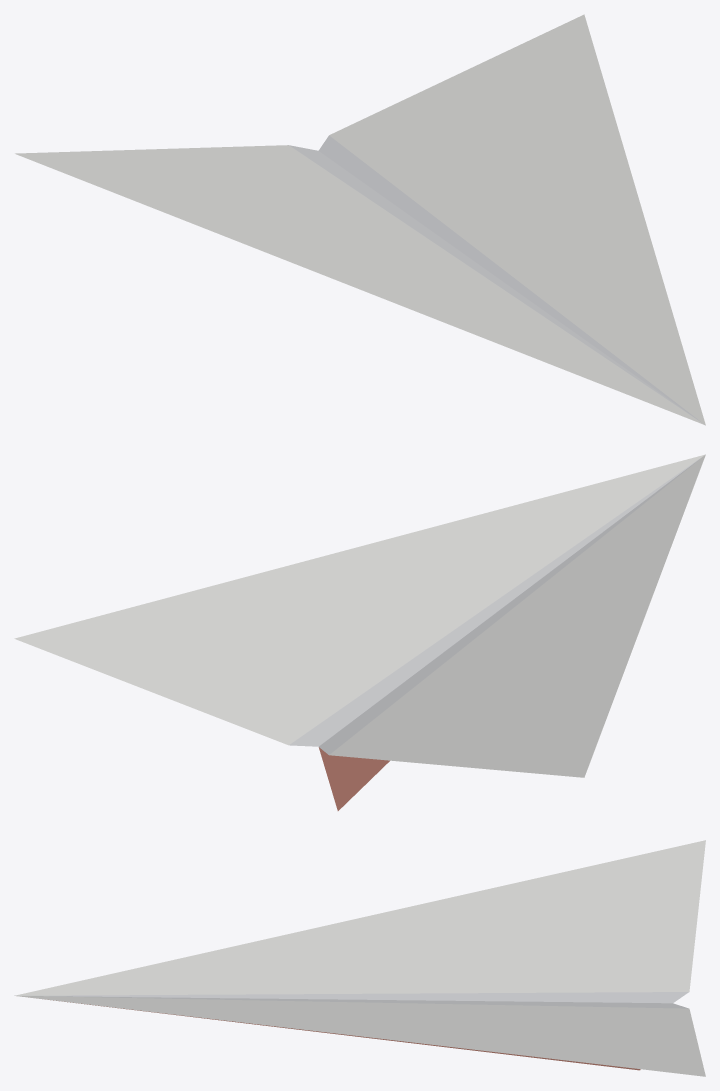
File: paper-plane.glb
3 views of the same model, one above another, from view 1: azimuth 30°, elevation 25°; view 2: azimuth 150°, elevation 25°; view 3: azimuth 270°, elevation 25° (orthographic). The views are drawn at different scales.
Bounding box in the file's own units: 3.4 × 0.75 × 4.2.
